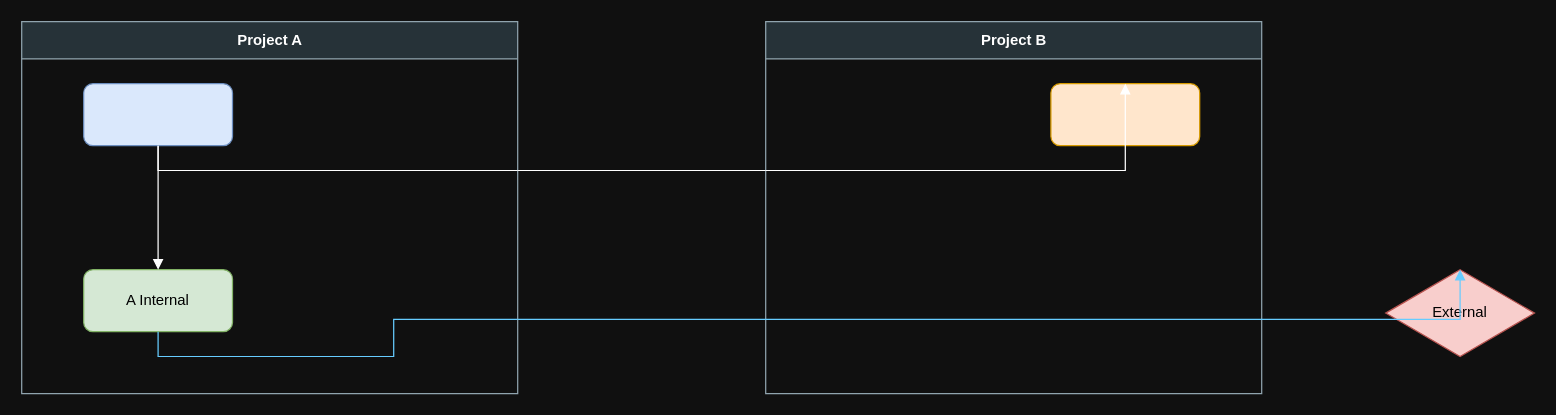
This 1556x415 diagram has some shape labels left out. Each missing label, with the centre of its shape:
"A Source" goes at point (157, 114).
"B Target" goes at point (1125, 114).
